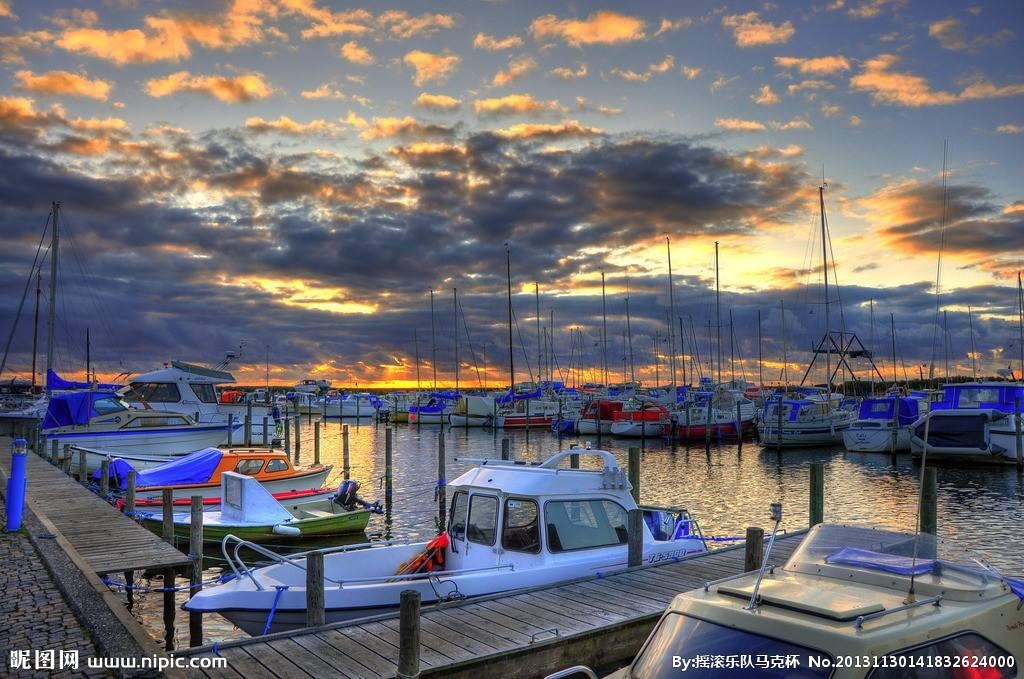otherboat: (182, 443, 697, 633), (122, 469, 386, 536)
